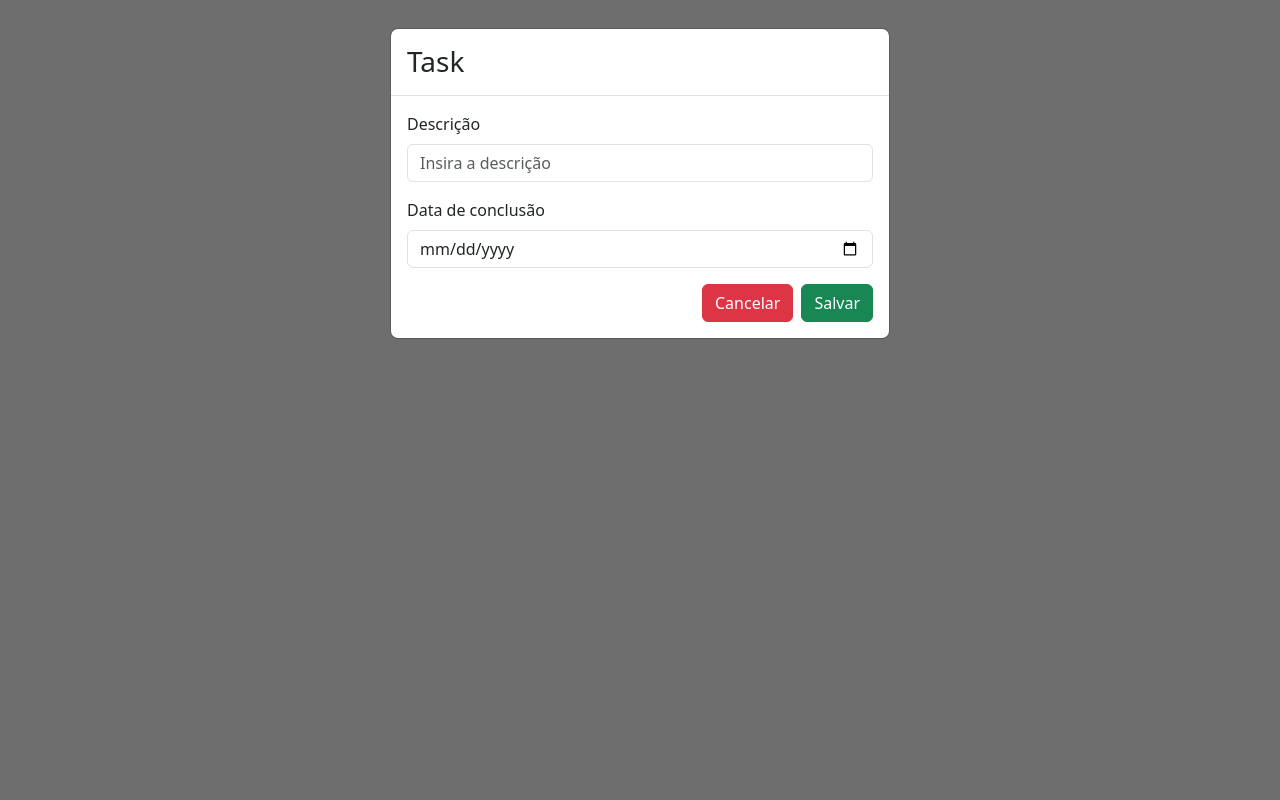
TaskForm › Should render error message when create task
In the field with placeholder "Insira a descrição": (640, 163) [407,144,873,182], type "test"
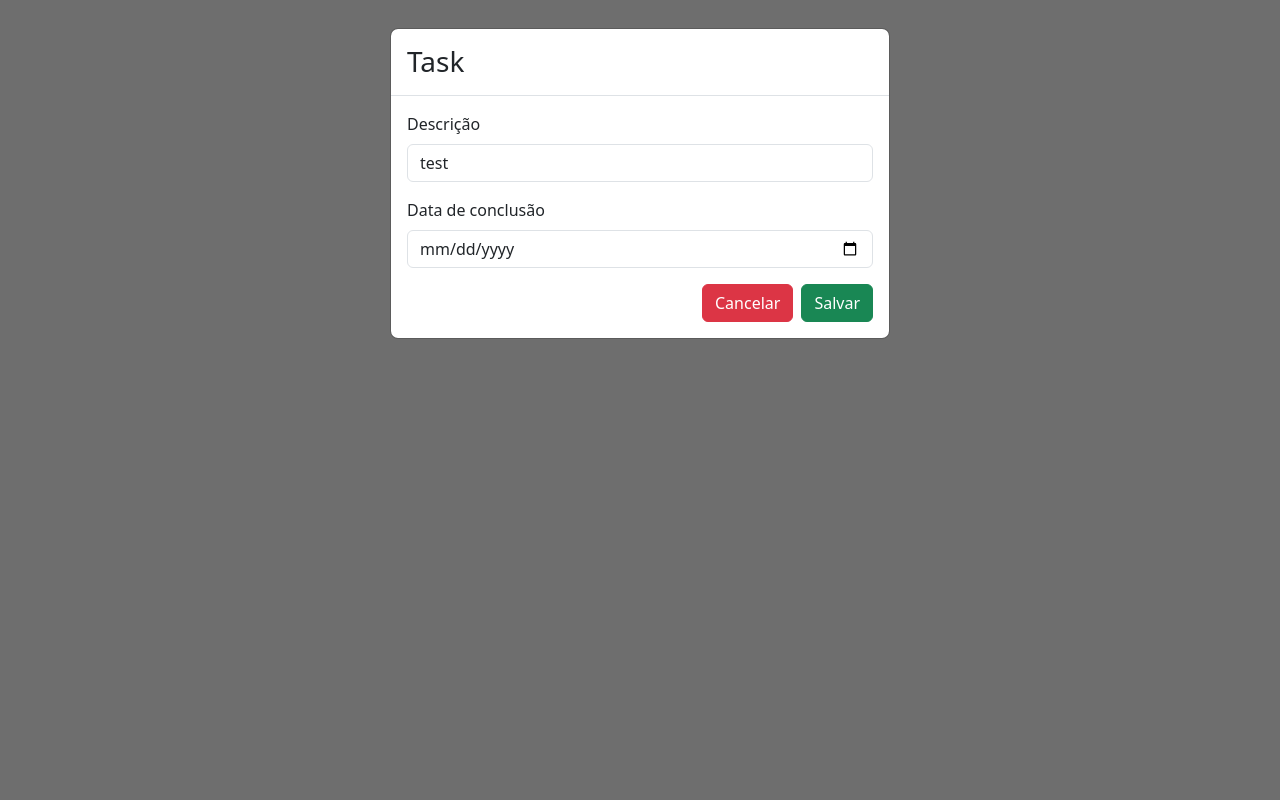
In the date field with placeholder "Insira a data": (640, 249) [407,230,873,268], type "2026-01-01"
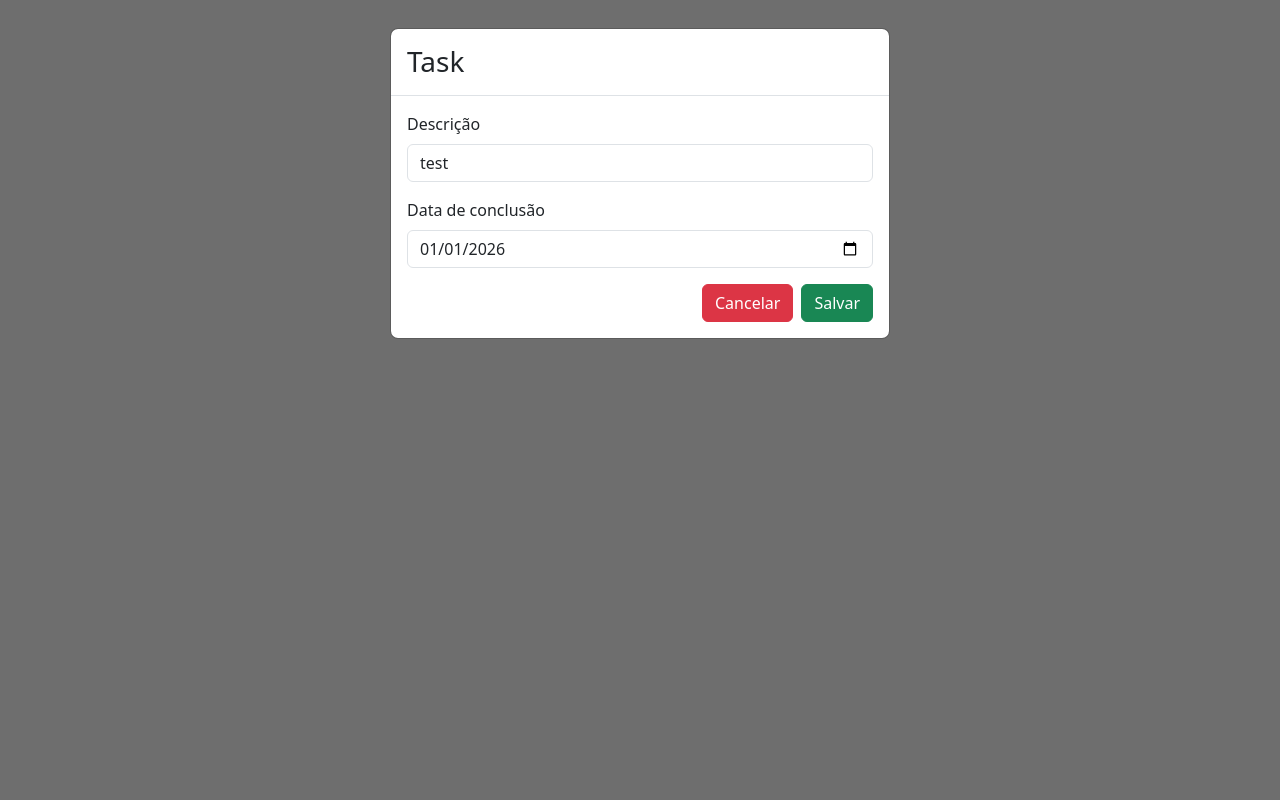
Click the button "Salvar": (837, 303) [801,284,873,322]
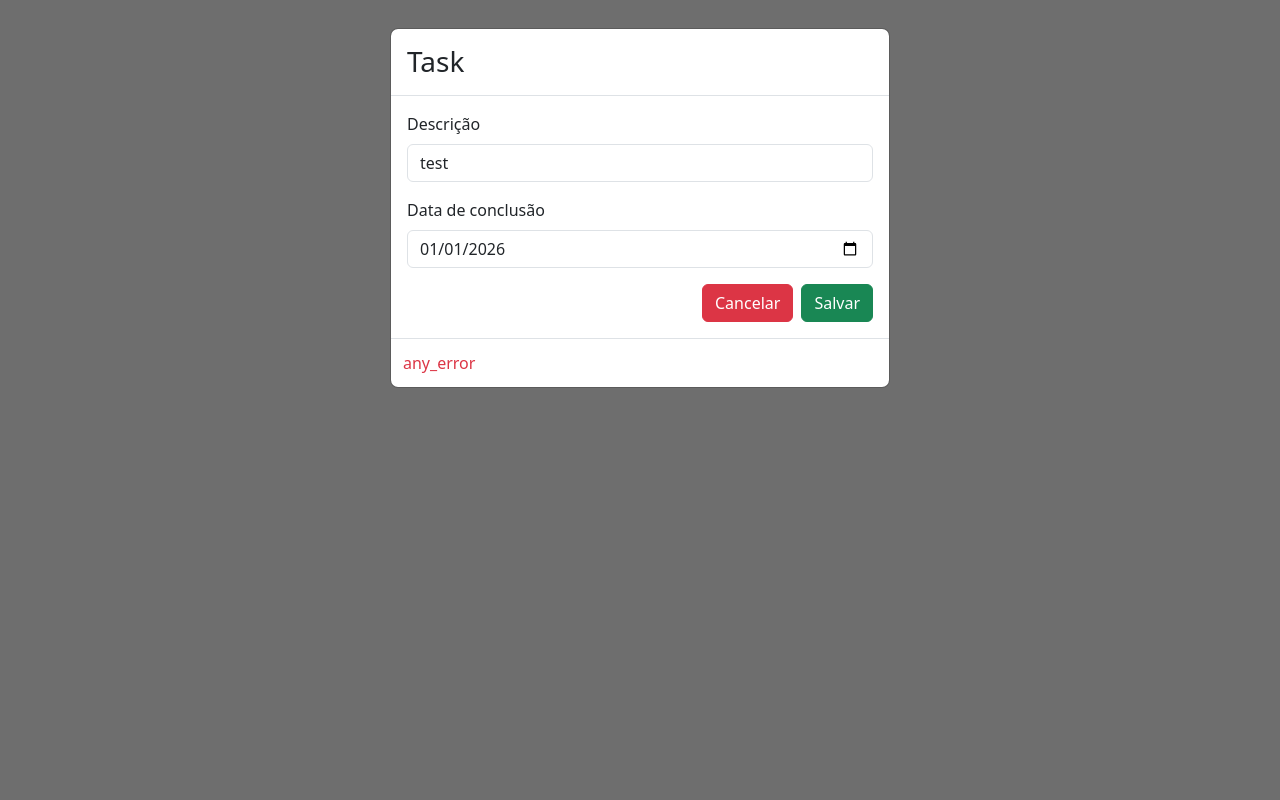
Expected: the text "any_error" is shown, [391,338,889,387]
